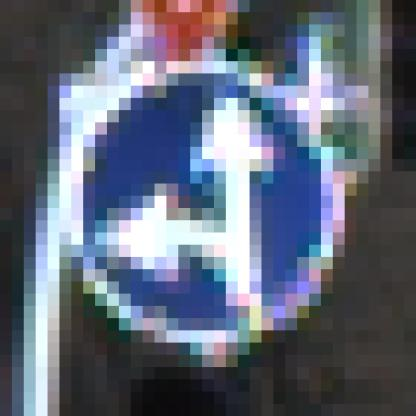Straight or Left: (61, 62, 358, 356)
